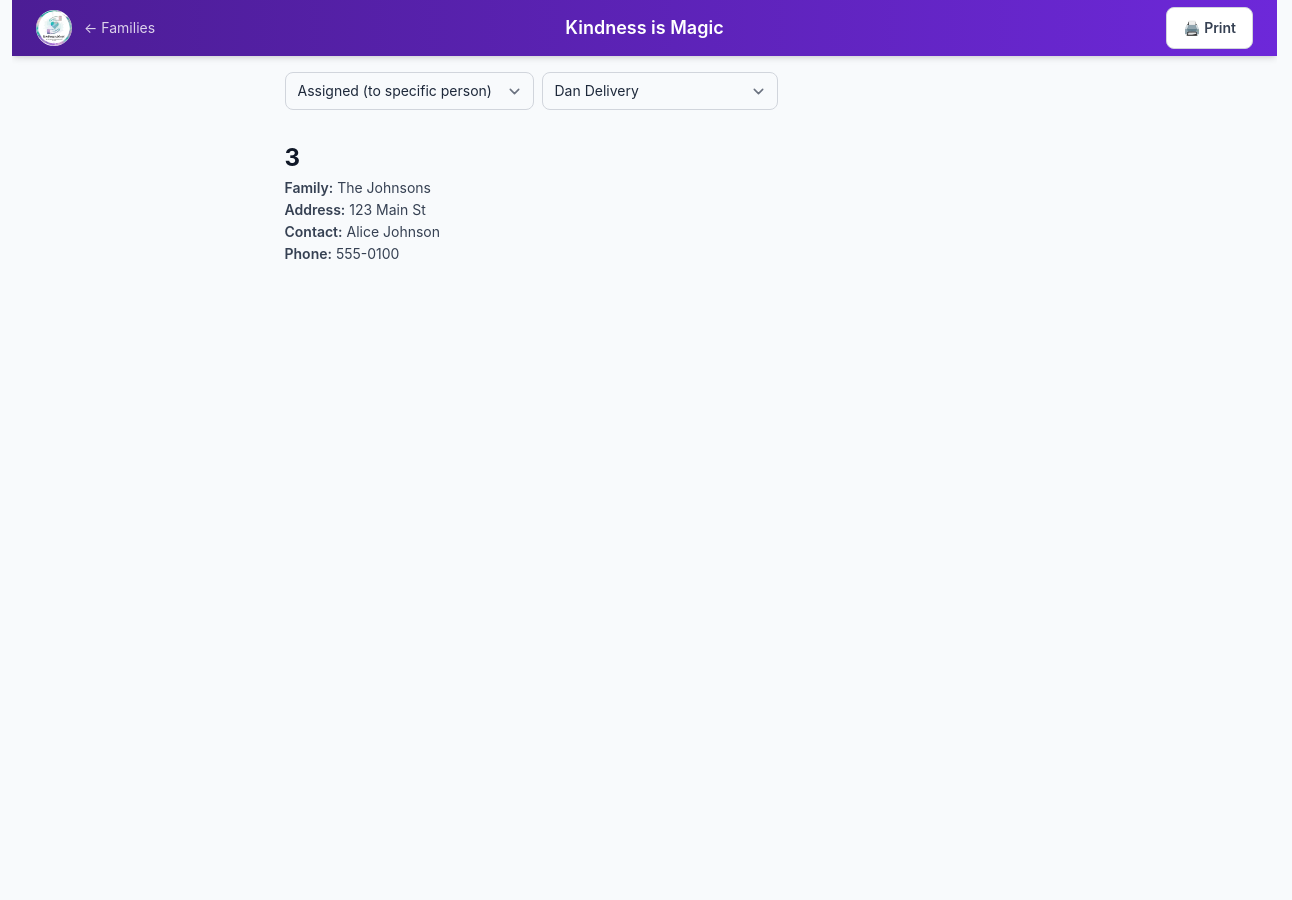
AdminDeliverySlips › picking a new scope clears the delivery_user_id param
Check: the text "The Johnsons" is shown, box [337,179,431,196]
Select "Unassigned" in the dropdown named "Scope" at (409, 91), box [284,72,534,110]
(page scrolled)
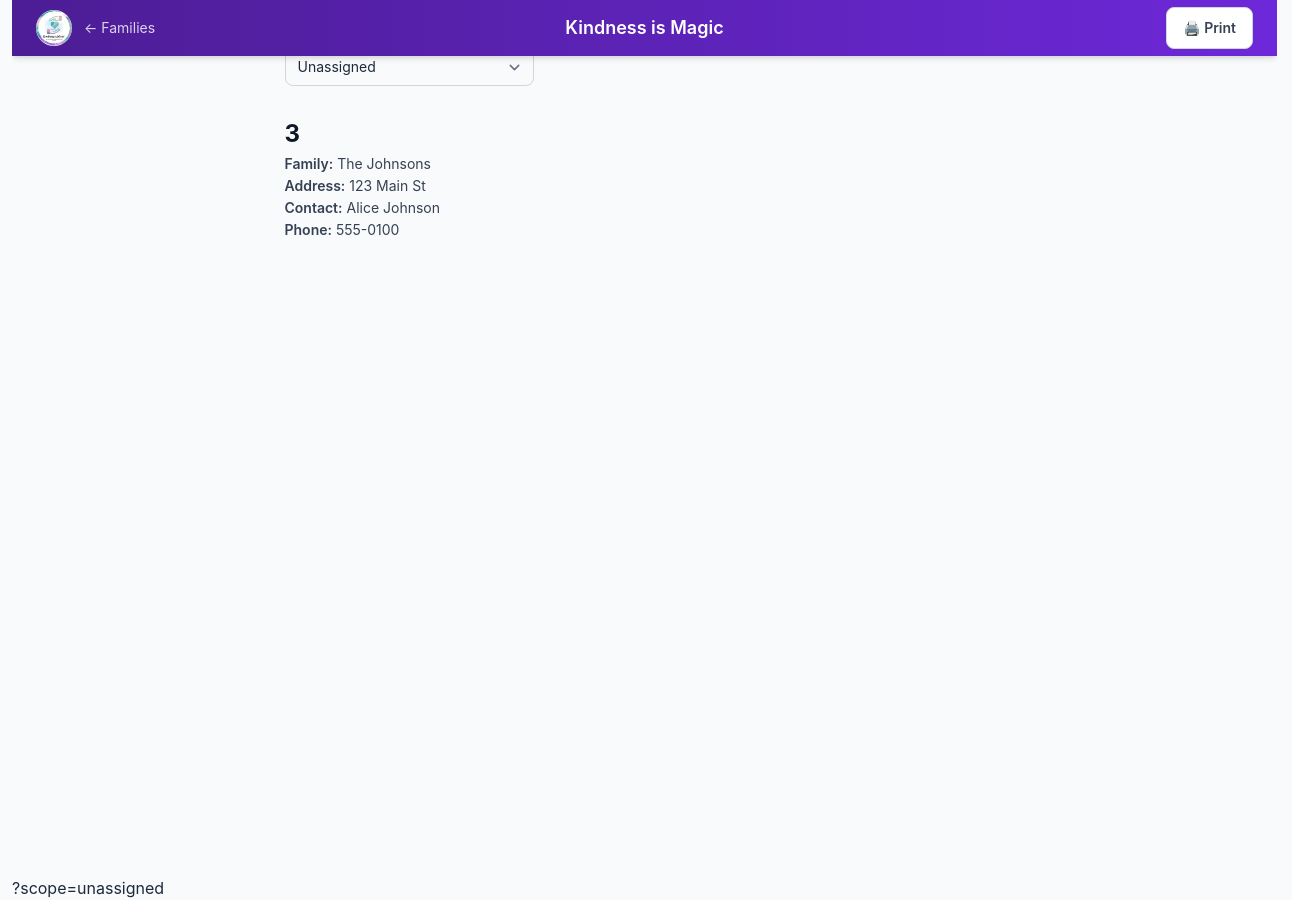
Check: the text with test id "url-probe" reads "?scope=unassigned", box [12,878,164,898]
